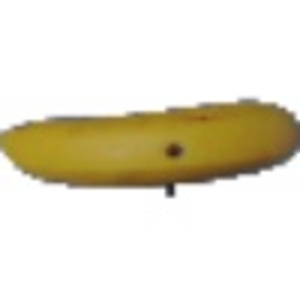banana: (2, 100, 299, 192)
